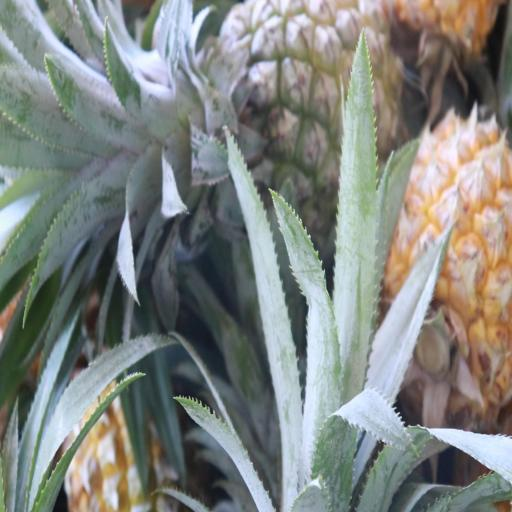Pineapple - v8 v1: (383, 124, 512, 416)
